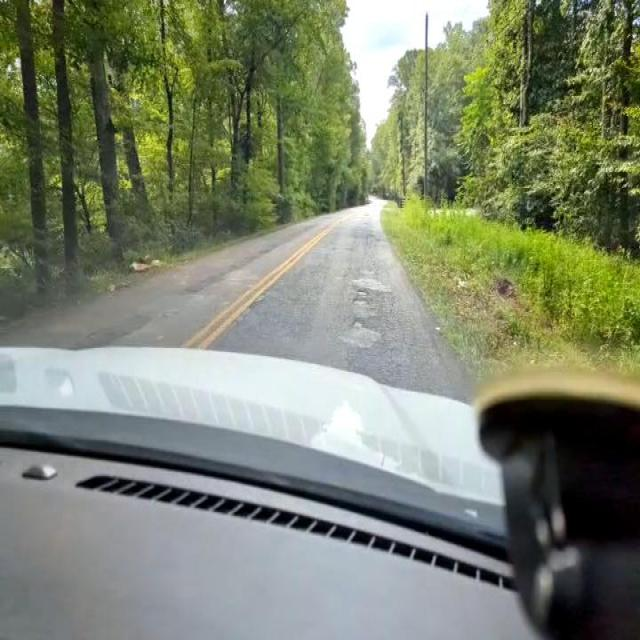pothole: (349, 291, 374, 310)
